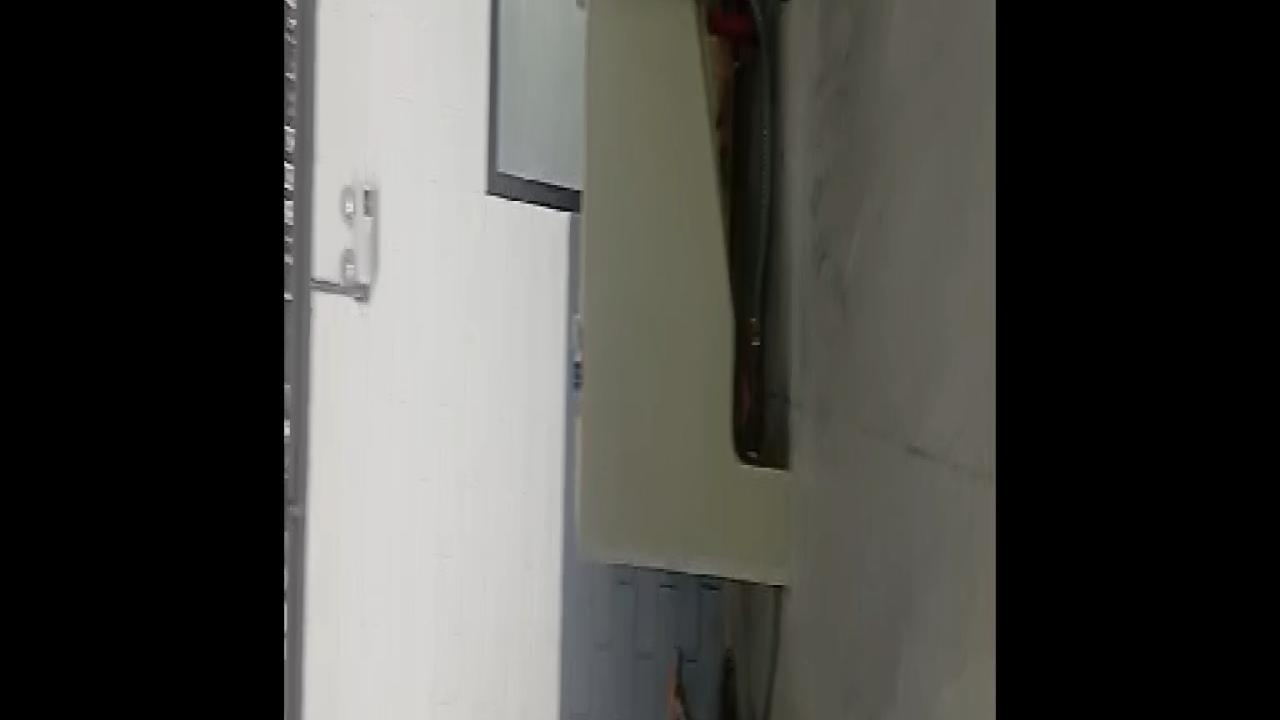Cube: (572, 359, 582, 391)
